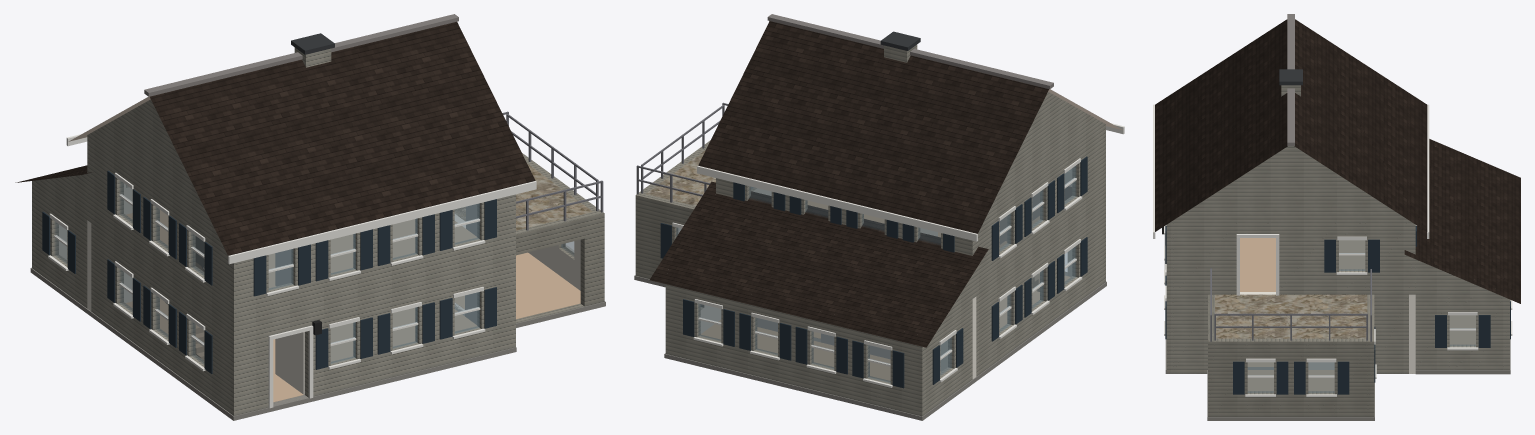
Rendered from ns-saltbox.towns-v1.lod0.glb.
3 views of the same model, side by side, from view 1: azimuth 30°, elevation 25°; view 2: azimuth 150°, elevation 25°; view 3: azimuth 270°, elevation 25° (orthographic). The views are drawn at different scales.
Visible parts, largest first — view 1: ns-saltbox; view 2: ns-saltbox; view 3: ns-saltbox.
Boxes of the visible parts, x1=… form: ns-saltbox: x1=15, y1=14, x2=605, y2=420; ns-saltbox: x1=634, y1=14, x2=1124, y2=420; ns-saltbox: x1=1153, y1=14, x2=1520, y2=420.
Bounding box in the file's own units: 14.59 × 9.74 × 13.29.
Materials: 7 (3 with a texture image).
